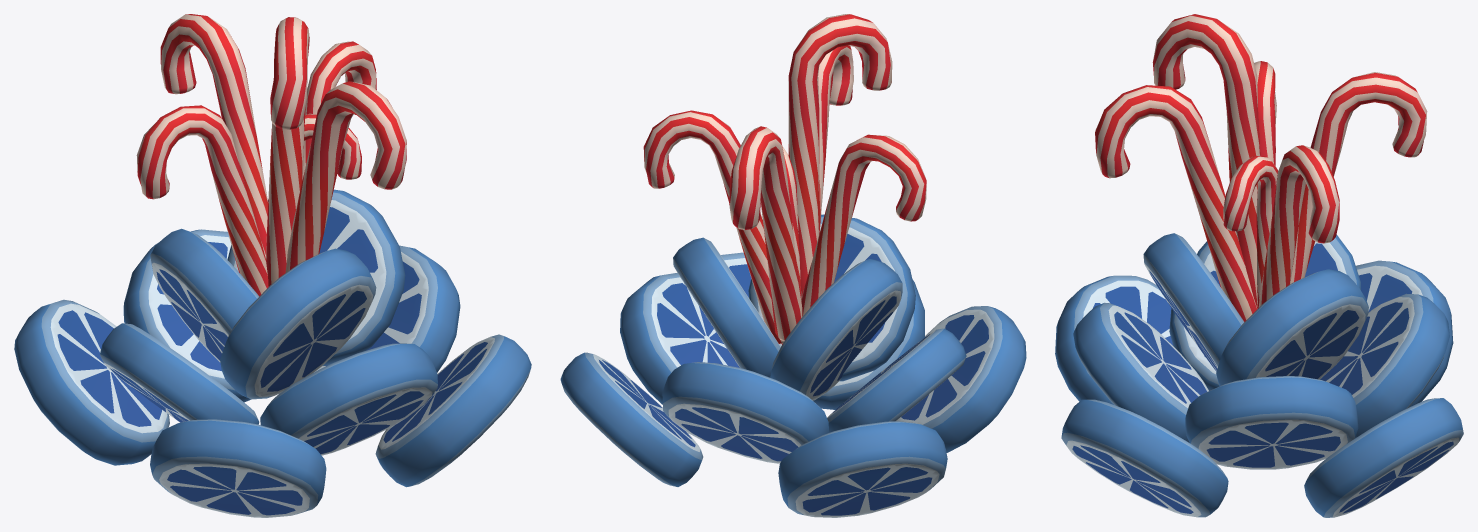
The model's file is cw_PlantsFlowers_6.fbx.
The picture shows the model from 3 angles, left to right: view 1: azimuth 30°, elevation 25°; view 2: azimuth 150°, elevation 25°; view 3: azimuth 270°, elevation 25°; orthographic projection. The views are drawn at different scales.
Parts seen in each view (by area): view 1: cw_pf_6; view 2: cw_pf_6; view 3: cw_pf_6.
Part boxes in pixels (x1,y1,x2,y2): cw_pf_6: (14, 14, 531, 517); cw_pf_6: (560, 14, 1026, 517); cw_pf_6: (1055, 14, 1463, 517).
Bounding box in the file's own units: 174 × 199 × 165.
